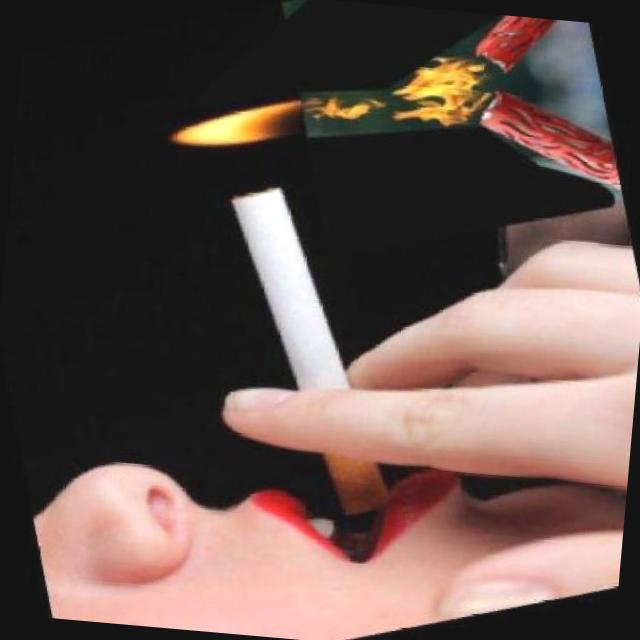smoke: (195, 166, 424, 542)
